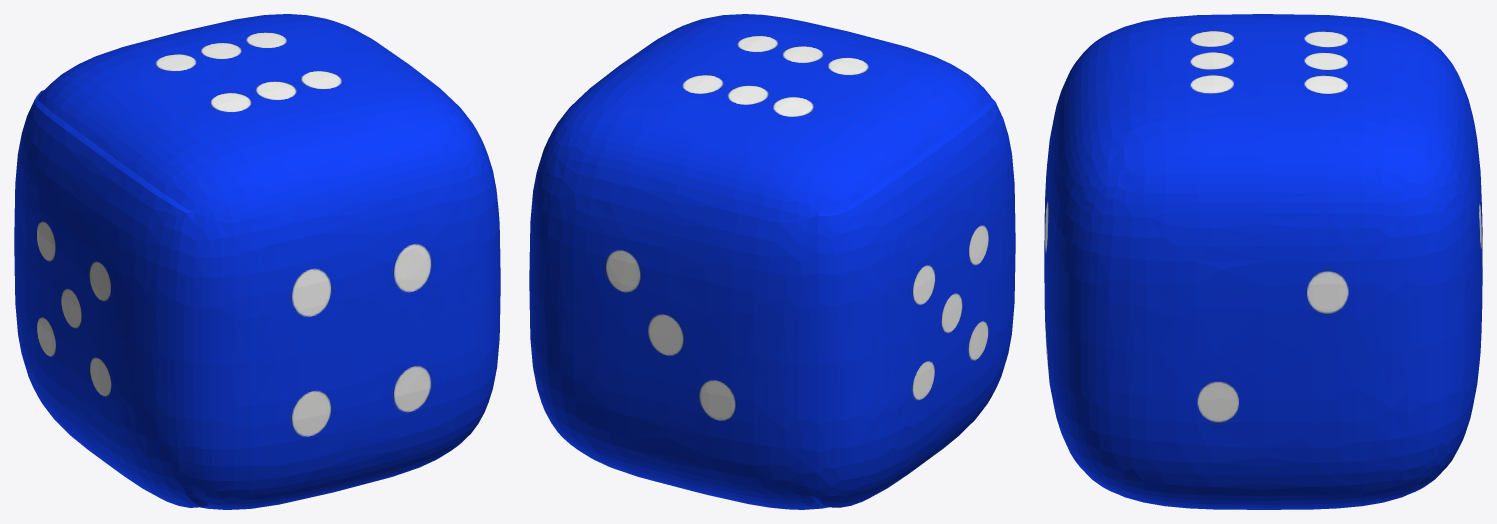
File: 6sided_cube.fbx
3 views of the same model, side by side, from view 1: azimuth 30°, elevation 25°; view 2: azimuth 150°, elevation 25°; view 3: azimuth 270°, elevation 25° (orthographic). The views are drawn at different scales.
Visible parts, largest first — view 1: Cube; view 2: Cube; view 3: Cube.
Part boxes in pixels (left/top/right/bottom): Cube: left=14, top=14, right=500, bottom=509; Cube: left=529, top=14, right=1015, bottom=509; Cube: left=1044, top=14, right=1482, bottom=509.
Bounding box in the file's own units: 11.66 × 11.66 × 11.66.
